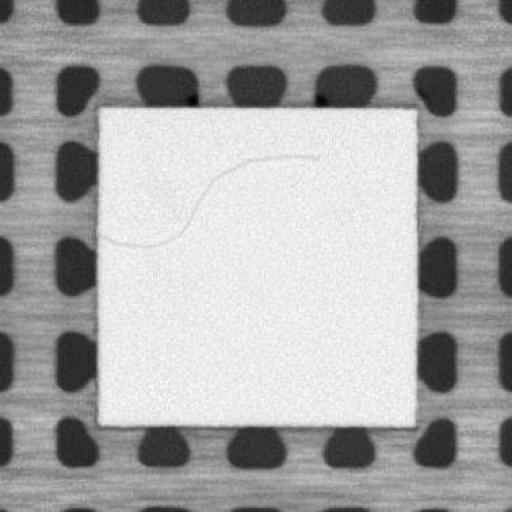DIE_CRACK: (93, 150, 317, 249)
